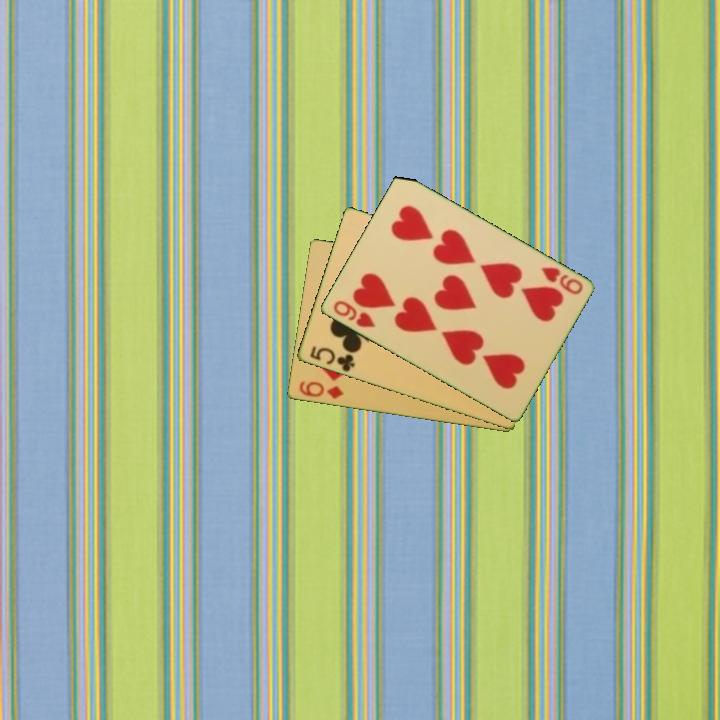5c: (306, 342, 357, 375)
6d: (295, 378, 346, 402)
9h: (537, 263, 586, 298), (329, 297, 378, 331)
